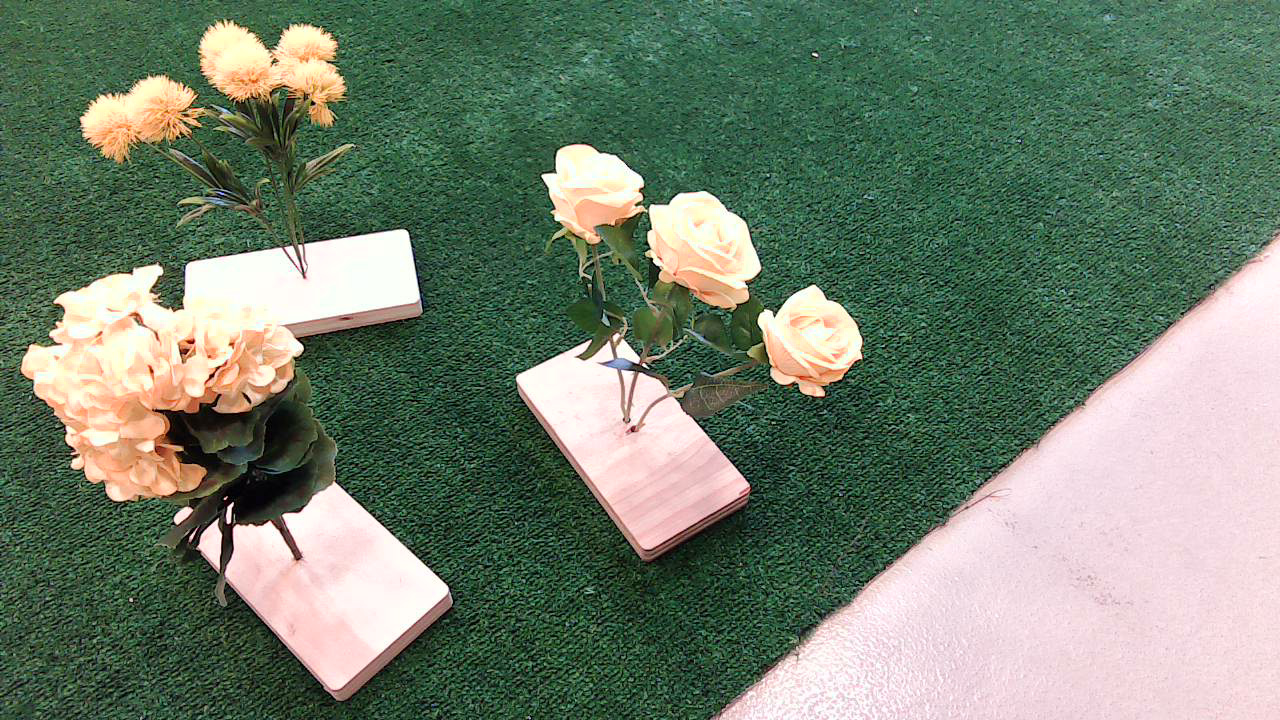dandelion: (60, 23, 398, 233)
geranium: (21, 268, 361, 634)
rose: (514, 119, 883, 440)
